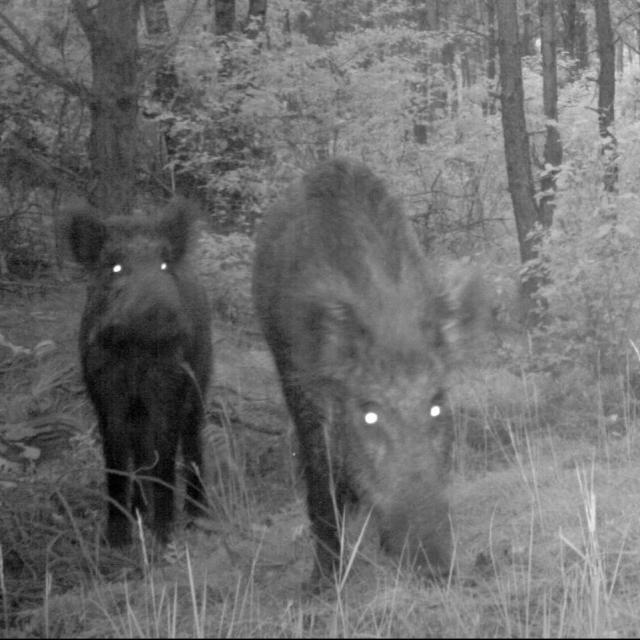pig: (261, 174, 484, 606), (68, 193, 220, 572)
